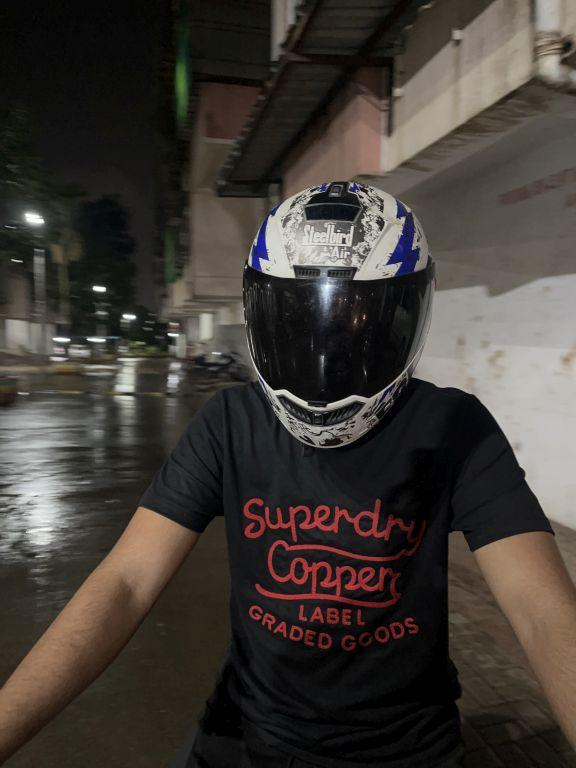helmet: (229, 167, 441, 465)
